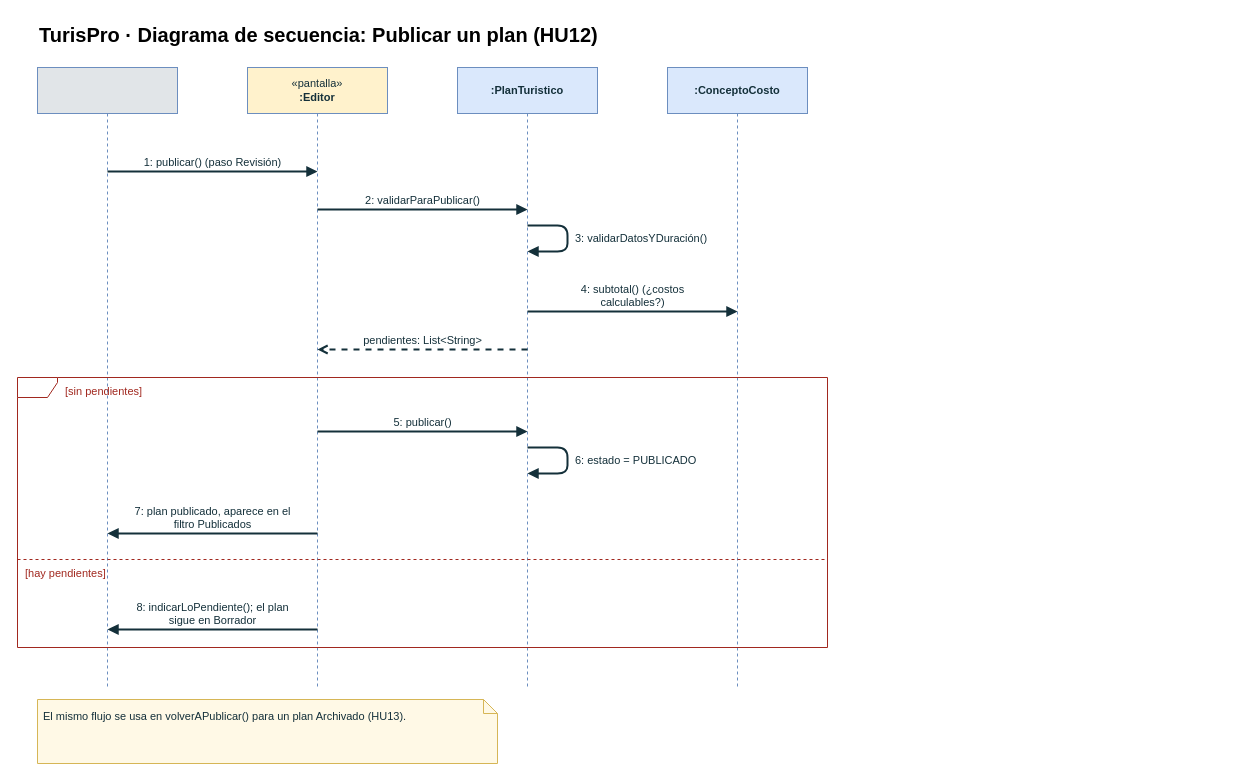
Some shapes in this 1255 by 781 pixel diagram are drawn without their labels. The shapes that lost their labels are listed below. From the top down, each one's box as (x1, y1, x2, y2) in pixels, then its label:
(36, 66, 178, 690): «actor» :Administrador
(16, 376, 828, 648): alt
